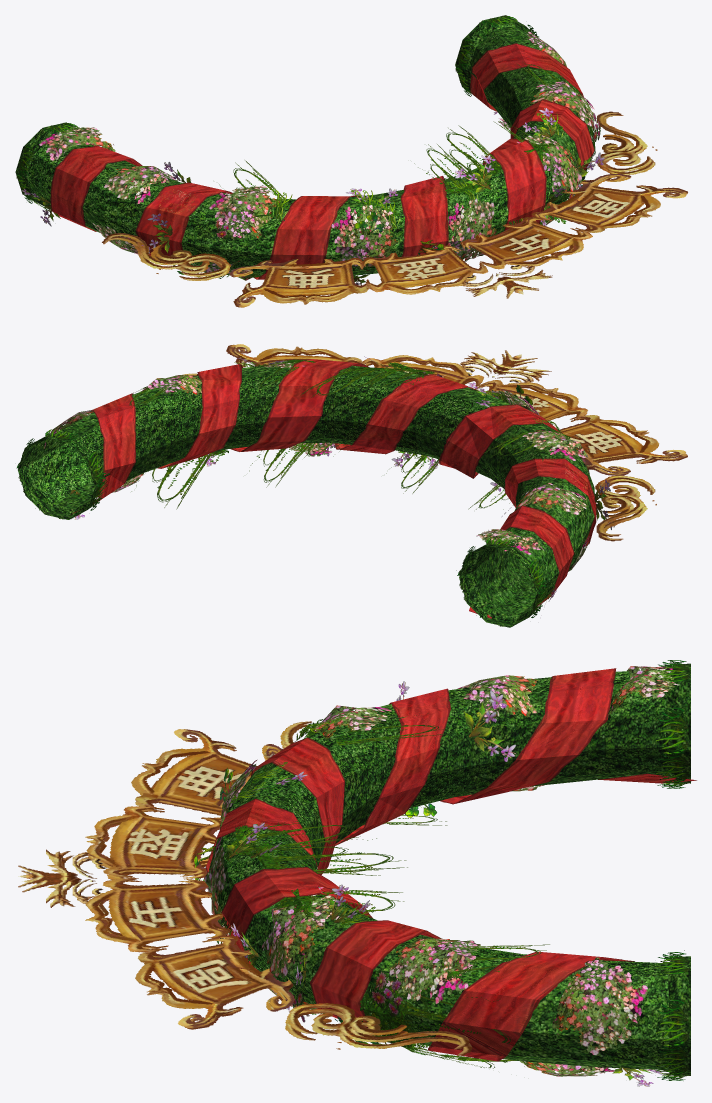
The model's file is huodong_gongmen.obj.
3 renders of one model, top to bottom at view 1: azimuth 30°, elevation 25°; view 2: azimuth 150°, elevation 25°; view 3: azimuth 270°, elevation 25°, orthographic. The views are drawn at different scales.
Parts seen in each view (by area): view 1: gongmen; view 2: gongmen; view 3: gongmen.
Part boxes in pixels (x1,y1,x2,y2): gongmen: [15, 15, 687, 307]; gongmen: [16, 344, 687, 627]; gongmen: [18, 660, 696, 1086].
Bounding box in the file's own units: 475 × 85.7 × 353.
Materials: 6 (6 with a texture image).
